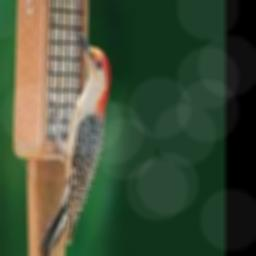Woodpecker: (39, 29, 110, 255)
